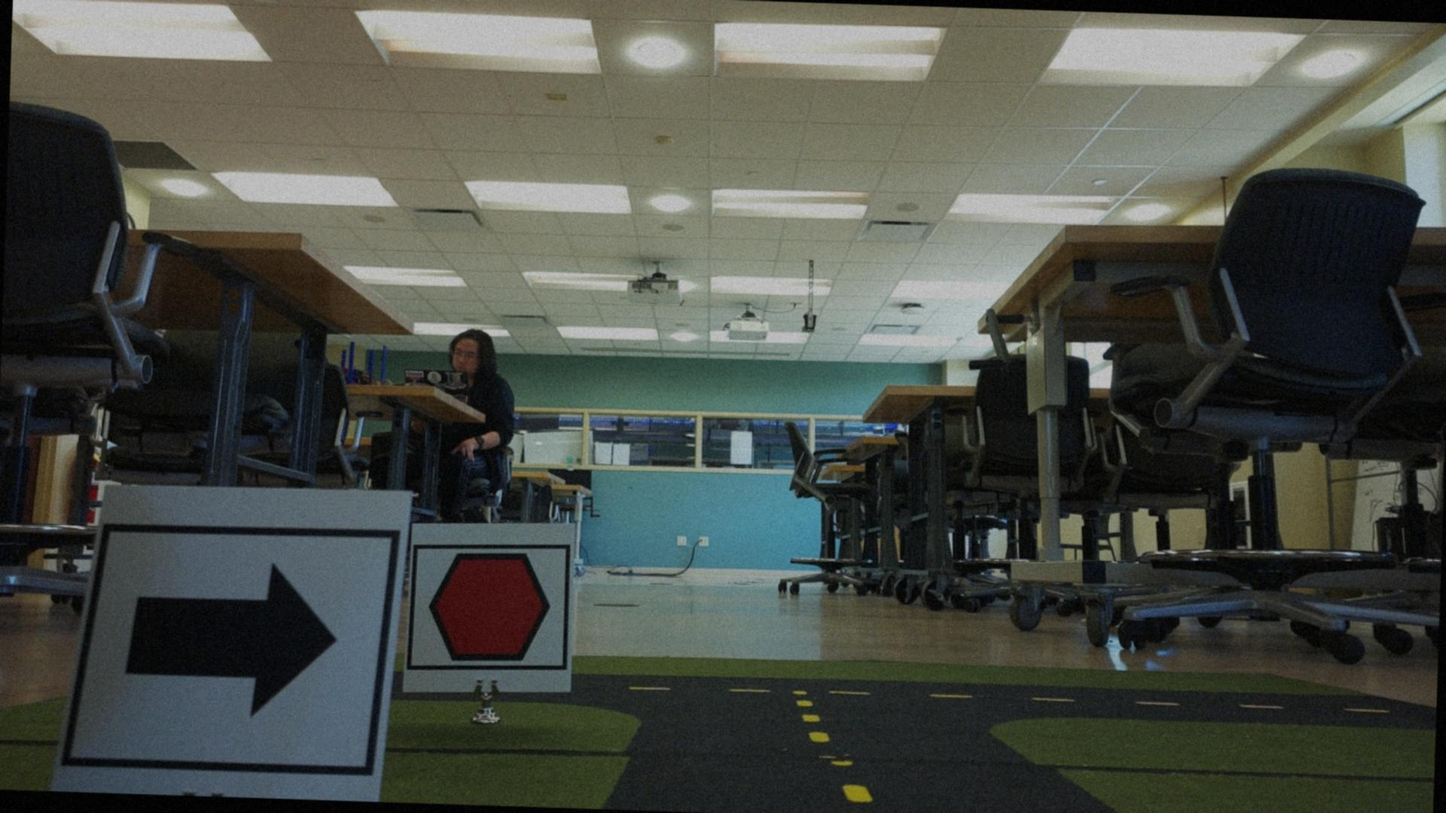stop: (412, 544, 566, 670)
turnright: (93, 525, 387, 781)
yellowline: (792, 698, 873, 806)
